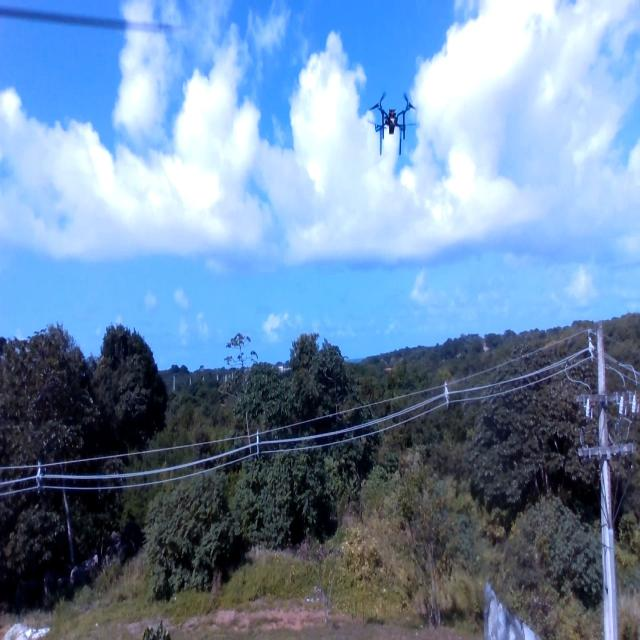-uav-: (358, 87, 428, 172)
